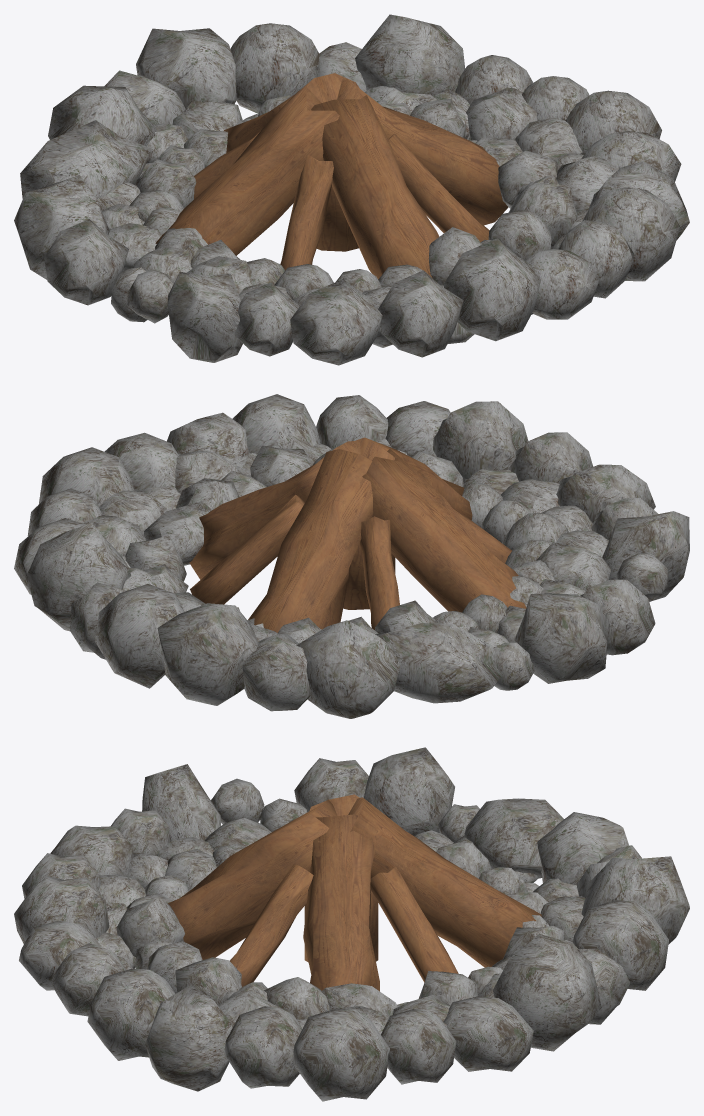
File: Hoguera2.fbx
3 views of the same model, one above another, from view 1: azimuth 30°, elevation 25°; view 2: azimuth 150°, elevation 25°; view 3: azimuth 270°, elevation 25° (orthographic).
Visible parts, largest first — view 1: Fogata; view 2: Fogata; view 3: Fogata.
Part boxes in pixels (left/top/right/bottom): Fogata: left=14, top=14, right=689, bottom=365; Fogata: left=14, top=394, right=689, bottom=718; Fogata: left=14, top=747, right=689, bottom=1101.
Bounding box in the file's own units: 38.85 × 10.59 × 37.68.
Materials: 2 (2 with a texture image).
